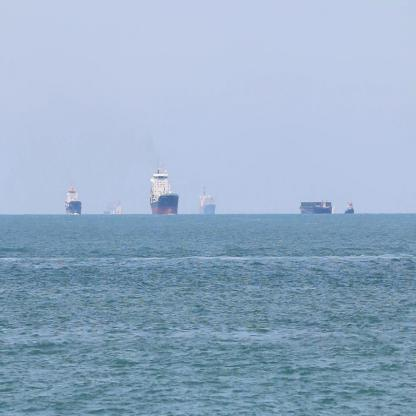Container Ship: (148, 158, 180, 218), (63, 178, 82, 218), (298, 196, 336, 216), (196, 183, 217, 218), (342, 199, 356, 216)
